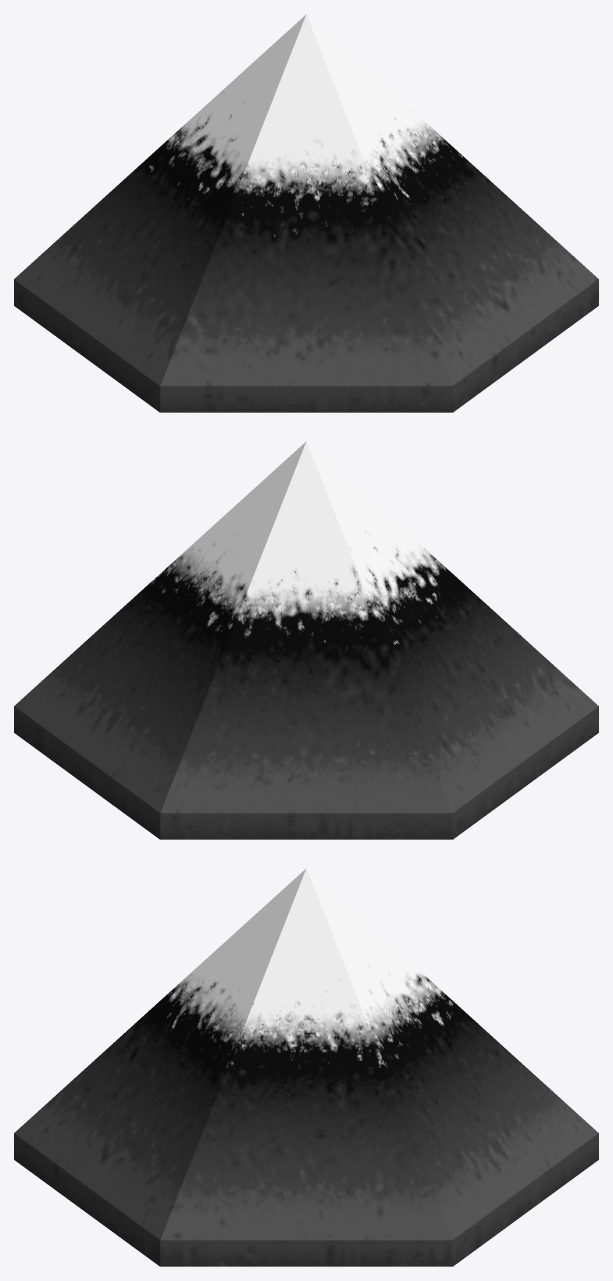
Rendered from Mountain.glb.
3 views of the same model, one above another, from view 1: azimuth 30°, elevation 25°; view 2: azimuth 150°, elevation 25°; view 3: azimuth 270°, elevation 25° (orthographic).
Visible parts, largest first — view 1: 01 Mountain; view 2: 01 Mountain; view 3: 01 Mountain.
Boxes of the visible parts, x1,y1,x2,y2 form: 01 Mountain: (14,14,598,412); 01 Mountain: (14,441,598,839); 01 Mountain: (14,868,598,1266).
Bounding box in the file's own units: 1.73 × 1.1 × 2.
1 material, 1 textured.
